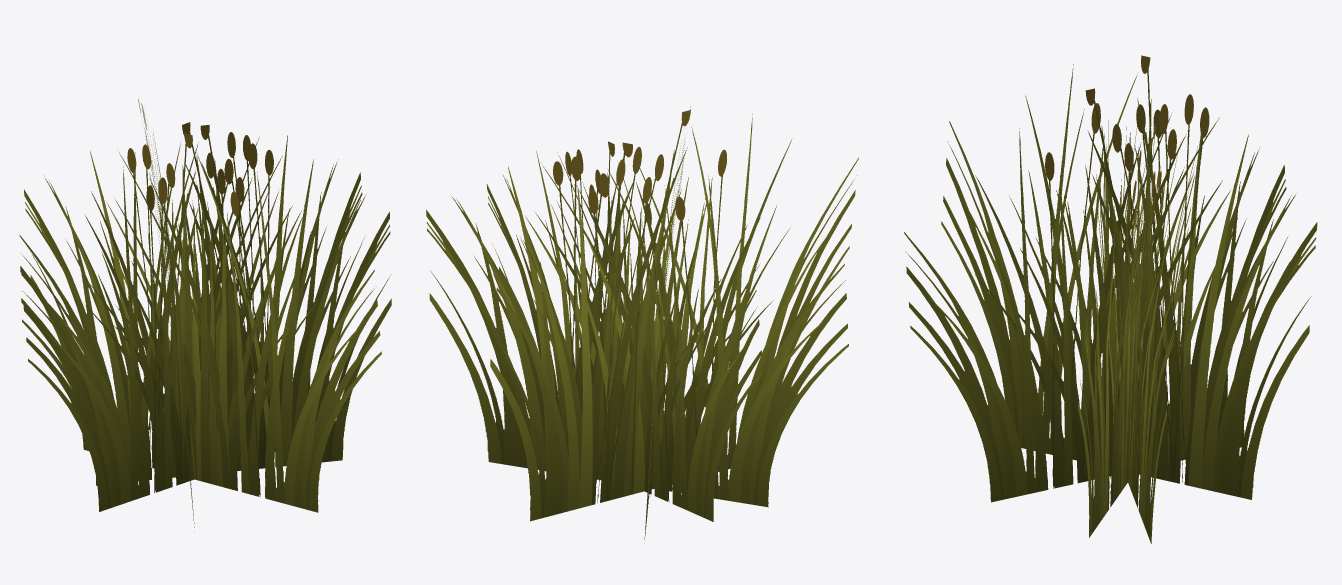
Rendered from tall_grass_1_burnt2.glb.
3 views of the same model, side by side, from view 1: azimuth 30°, elevation 25°; view 2: azimuth 150°, elevation 25°; view 3: azimuth 270°, elevation 25° (orthographic). The views are drawn at different scales.
Parts seen in each view (by area): view 1: tall_grass_1_burnt2; view 2: tall_grass_1_burnt2; view 3: tall_grass_1_burnt2.
Boxes of the visible parts, x1=… form: tall_grass_1_burnt2: x1=19, y1=99, x2=391, y2=531; tall_grass_1_burnt2: x1=426, y1=106, x2=858, y2=539; tall_grass_1_burnt2: x1=904, y1=55, x2=1317, y2=543.
Size of the model in its own units: 0.9375 by 0.9163 by 0.9052.
Materials: 1 (1 with a texture image).
